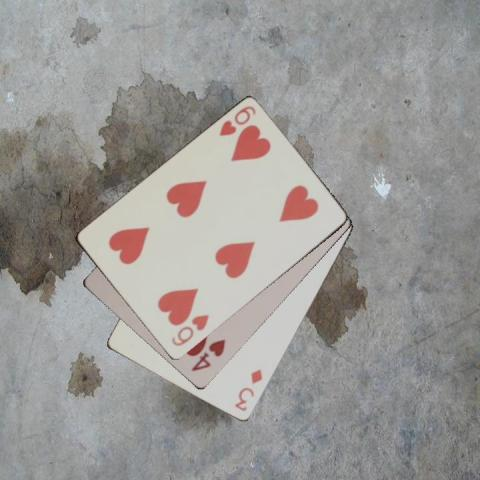3d: (231, 366, 264, 413)
4h: (188, 336, 227, 374)
6h: (168, 311, 211, 348), (216, 102, 257, 138)
